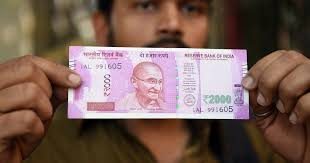twoThousand: (84, 60, 237, 109)
